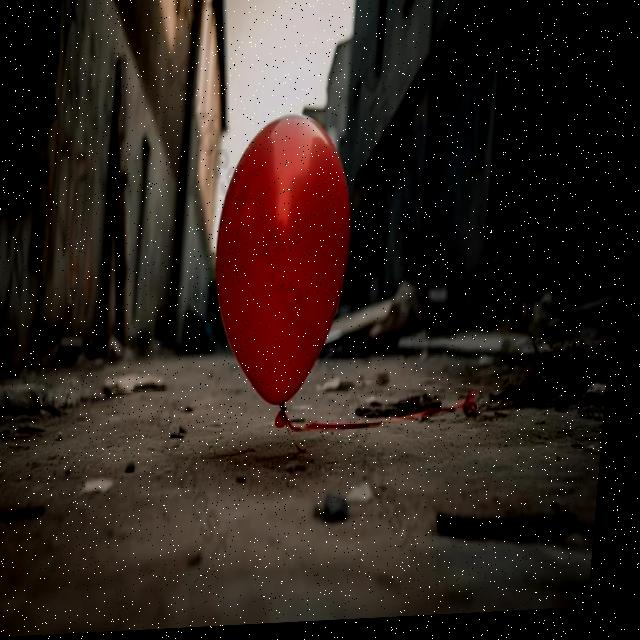balloon: (202, 105, 366, 460)
